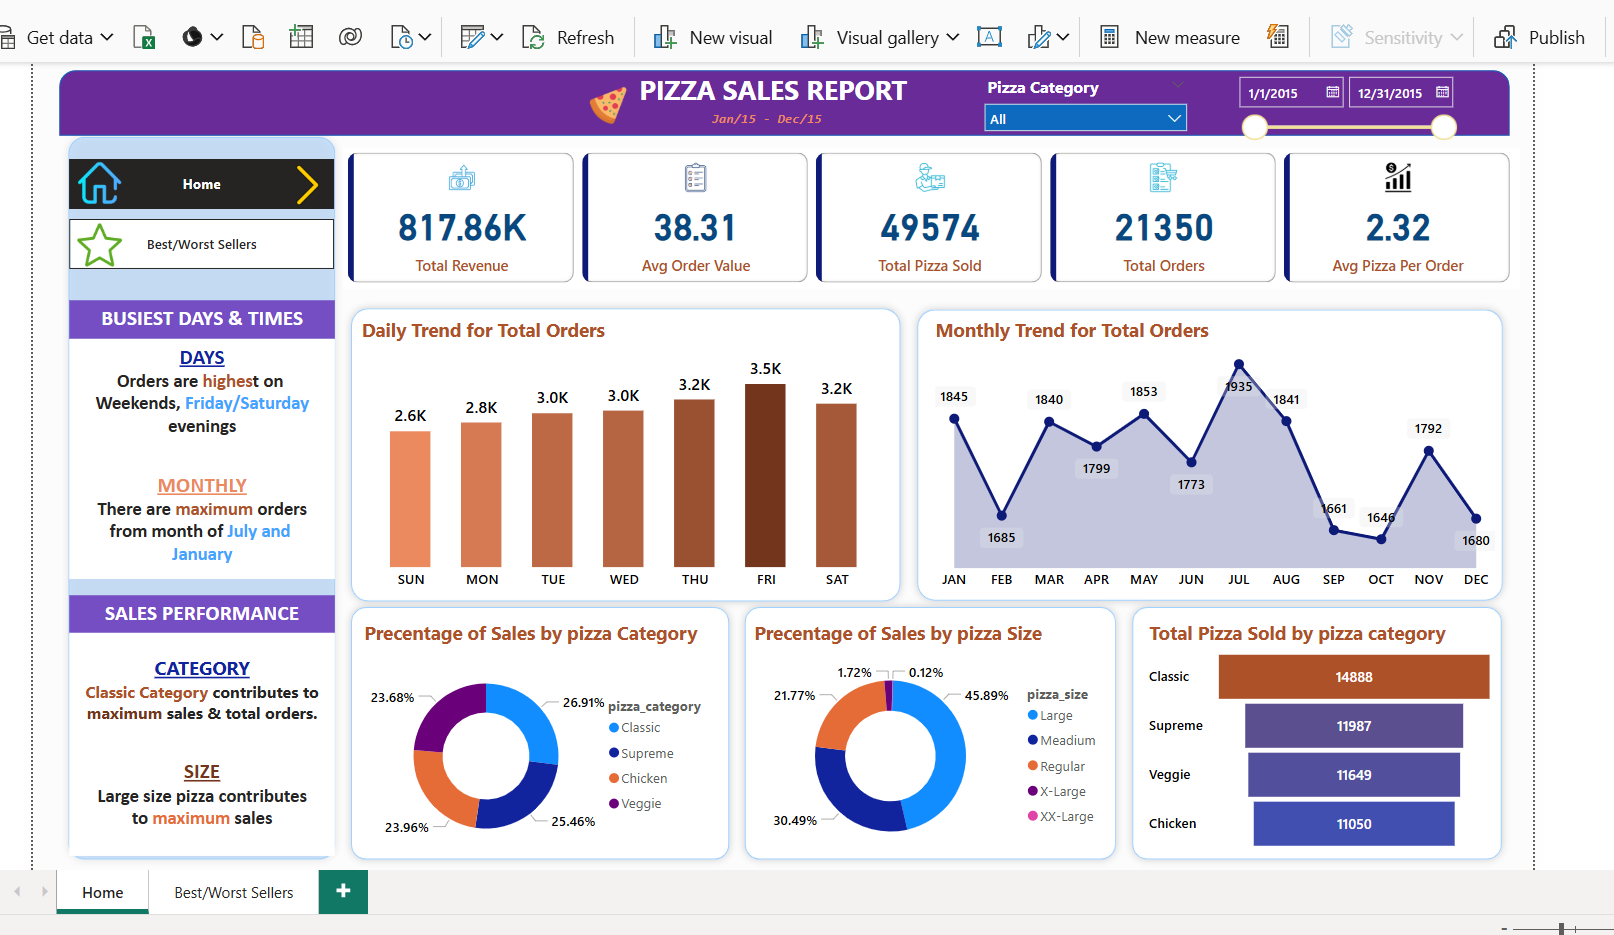

This screenshot's page, from the dashboard's own definition file:
{"tool":"powerbi","page":{"name":"Home","canvas":[1500,820],"ordinal":0},"visuals":[{"type":"shape","box":[27.1,70,282.9,738.6],"z":0},{"type":"cardVisual","fields":{"Data":["pizza_sales.Total Revenue","pizza_sales.Avg Order Value","pizza_sales.Total Pizza Sold","pizza_sales.Total Orders","pizza_sales.Avg Pizza Per Order"]},"box":[309.4,89.1,1176.6,140.6],"z":1000},{"type":"shape","box":[26.6,10.9,1450,65.6],"z":2000},{"type":"textbox","box":[601.6,7,301.6,56.2],"z":3000},{"type":"textbox","box":[673.4,45.3,156.2,32.8],"z":4000},{"type":"image","box":[548.4,21.9,53.1,48.4],"z":5000},{"type":"shape","box":[309.4,240.6,565.6,309.4],"z":6000},{"type":"columnChart","title":"Daily Trend for Total Orders","fields":{"Category":["pizza_sales.Order date"],"Y":["pizza_sales.Total Orders"]},"box":[324.3,257.1,535.7,282.9],"z":7000},{"type":"shape","box":[875.7,242.9,601.4,307.1],"z":8000},{"type":"areaChart","title":"   Monthly Trend for Total Orders","fields":{"Category":["pizza_sales.Order Month"],"Y":["pizza_sales.Total Orders"]},"box":[897.1,257.1,570,282.9],"z":9000},{"type":"shape","box":[310,540,394.3,268.6],"z":10000},{"type":"shape","box":[704.3,540,387.1,268.6],"z":11000},{"type":"shape","box":[1091.4,540,385.7,268.6],"z":12000},{"type":"donutChart","title":"Precentage of Sales by pizza Category","fields":{"Category":["pizza_sales.pizza_category"],"Y":["pizza_sales.Total Revenue"]},"box":[325.7,561.4,362.9,247.1],"z":13000},{"type":"textbox","box":[35.7,241,265.7,38.6],"z":14000},{"type":"donutChart","title":"Precentage of Sales by pizza Size","fields":{"Category":["pizza_sales.pizza_size"],"Y":["pizza_sales.Total Revenue"]},"box":[715.7,561.4,362.9,247.1],"z":15000},{"type":"funnel","title":"Total Pizza Sold by pizza category","fields":{"Category":["pizza_sales.pizza_category"],"Y":["pizza_sales.Total Pizza Sold"]},"box":[1111.4,561.4,355.7,235.7],"z":16000},{"type":"textbox","box":[35.7,280,265.7,240],"z":17000},{"type":"textbox","box":[35.7,536,265.7,38.6],"z":18000},{"type":"textbox","box":[35.7,574.3,265.7,222.9],"z":19000},{"type":"slicer","fields":{"Values":["pizza_sales.pizza_category"]},"box":[941.4,11.4,222.9,65.7],"z":20000},{"type":"slicer","fields":{"Values":["pizza_sales.order_date"]},"box":[1194.3,7.1,238.6,81.4],"z":21000},{"type":"pageNavigator","box":[35.7,100,265.7,50],"z":21001},{"type":"pageNavigator","box":[35.7,160,265.7,50],"z":21002},{"type":"image","box":[247.1,101.4,54.3,50],"z":21003},{"type":"image","box":[35.7,97.1,60,52.9],"z":21004},{"type":"image","box":[35.7,158.6,60,54.3],"z":21005}]}

Visuals, with their boxes on the page's 1500x820 design canvas (x1, y1, x2, y2). These are canvas units, not pixel positions in the 1614x935 screenshot, which may show the page scaled, cropped or inside an application window:
shape: (27, 70, 310, 809)
cardVisual - pizza_sales.Total Revenue x pizza_sales.Avg Order Value: (309, 89, 1486, 230)
shape: (27, 11, 1477, 76)
textbox: (602, 7, 903, 63)
textbox: (673, 45, 830, 78)
image: (548, 22, 602, 70)
shape: (309, 241, 875, 550)
"Daily Trend for Total Orders" columnChart: (324, 257, 860, 540)
shape: (876, 243, 1477, 550)
"   Monthly Trend for Total Orders" areaChart: (897, 257, 1467, 540)
shape: (310, 540, 704, 809)
shape: (704, 540, 1091, 809)
shape: (1091, 540, 1477, 809)
"Precentage of Sales by pizza Category" donutChart: (326, 561, 689, 808)
textbox: (36, 241, 301, 280)
"Precentage of Sales by pizza Size" donutChart: (716, 561, 1079, 808)
"Total Pizza Sold by pizza category" funnel: (1111, 561, 1467, 797)
textbox: (36, 280, 301, 520)
textbox: (36, 536, 301, 575)
textbox: (36, 574, 301, 797)
slicer - pizza_sales.pizza_category: (941, 11, 1164, 77)
slicer - pizza_sales.order_date: (1194, 7, 1433, 88)
pageNavigator: (36, 100, 301, 150)
pageNavigator: (36, 160, 301, 210)
image: (247, 101, 301, 151)
image: (36, 97, 96, 150)
image: (36, 159, 96, 213)
